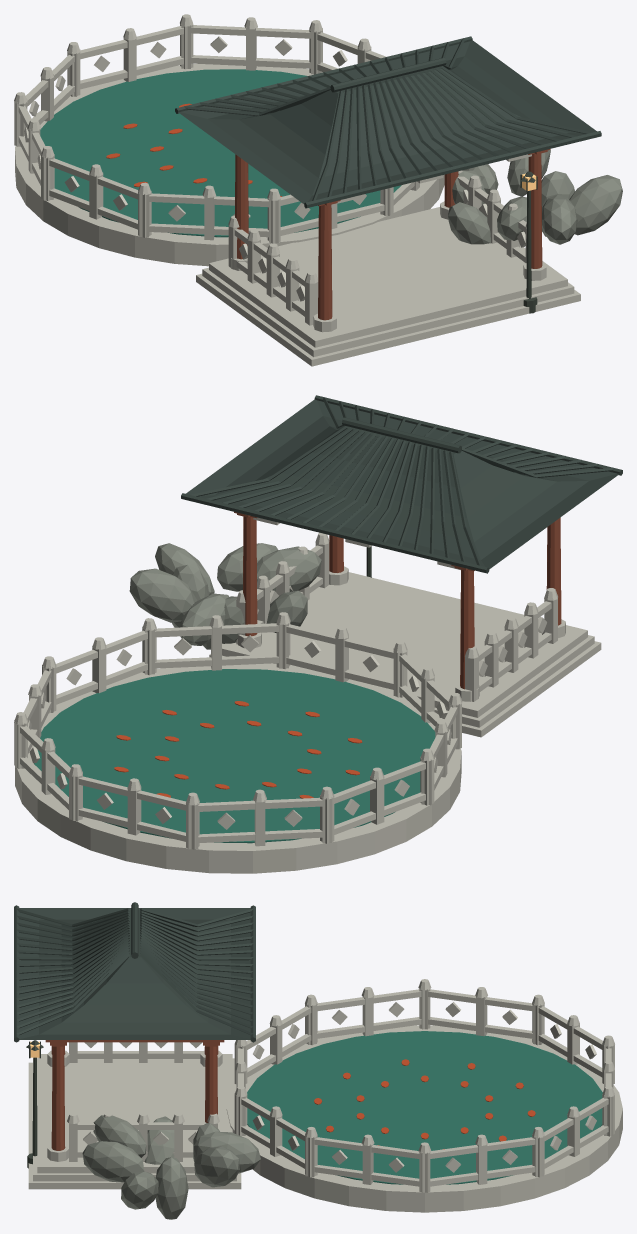
The model's file is huagang.glb.
3 renders of one model, top to bottom at view 1: azimuth 30°, elevation 25°; view 2: azimuth 150°, elevation 25°; view 3: azimuth 270°, elevation 25°, orthographic. The views are drawn at different scales.
Parts seen in each view (by area): view 1: Limestone, Dark_Tile, Jade_Pond, Garden_Stone, Lacquered_Wood, Patinated_Iron; view 2: Limestone, Jade_Pond, Dark_Tile, Garden_Stone, Lacquered_Wood, Koi_Cinnabar; view 3: Limestone, Jade_Pond, Dark_Tile, Garden_Stone, Lacquered_Wood, Koi_Cinnabar, Patinated_Iron.
Part boxes in pixels (<box>): Limestone: <box>14,14,580,366</box>; Dark_Tile: <box>175,36,601,208</box>; Jade_Pond: <box>40,69,401,237</box>; Garden_Stone: <box>448,150,622,244</box>; Lacquered_Wood: <box>235,149,550,320</box>; Patinated_Iron: <box>520,171,537,313</box>; Limestone: <box>14,517,601,873</box>; Jade_Pond: <box>34,669,435,843</box>; Dark_Tile: <box>181,395,622,573</box>; Garden_Stone: <box>129,543,321,649</box>; Lacquered_Wood: <box>234,512,561,689</box>; Koi_Cinnabar: <box>114,701,362,798</box>; Limestone: <box>28,979,622,1212</box>; Jade_Pond: <box>247,1031,602,1184</box>; Dark_Tile: <box>14,902,255,1042</box>; Garden_Stone: <box>82,1115,260,1219</box>; Lacquered_Wood: <box>45,1040,224,1150</box>; Koi_Cinnabar: <box>314,1059,535,1149</box>; Patinated_Iron: <box>26,1040,43,1168</box>.
Bounding box in the file's own units: 9.28 × 4.77 × 12.6.
